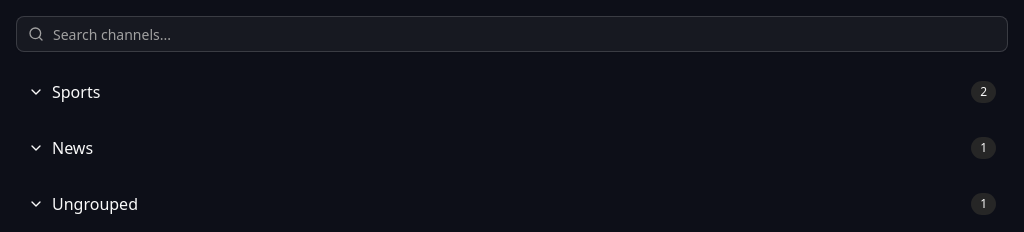
Scenario: ChannelList › Search/Filter › should show no matches message when search has no results
Expected: the text "Sports" is shown, 52,80 -> 100,104
Type "XXXXX" into the field with placeholder "Search channels...".
click(512, 34); type("XXXXX")  # box 16,16 -> 1008,52
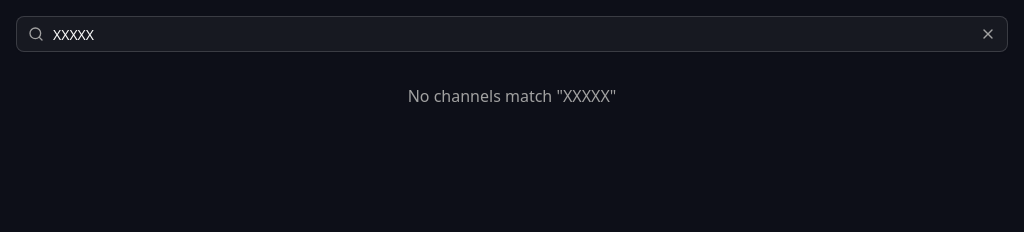
Result: the text "No channels match \"XXXXX\"" is shown at 408,84 -> 616,108
